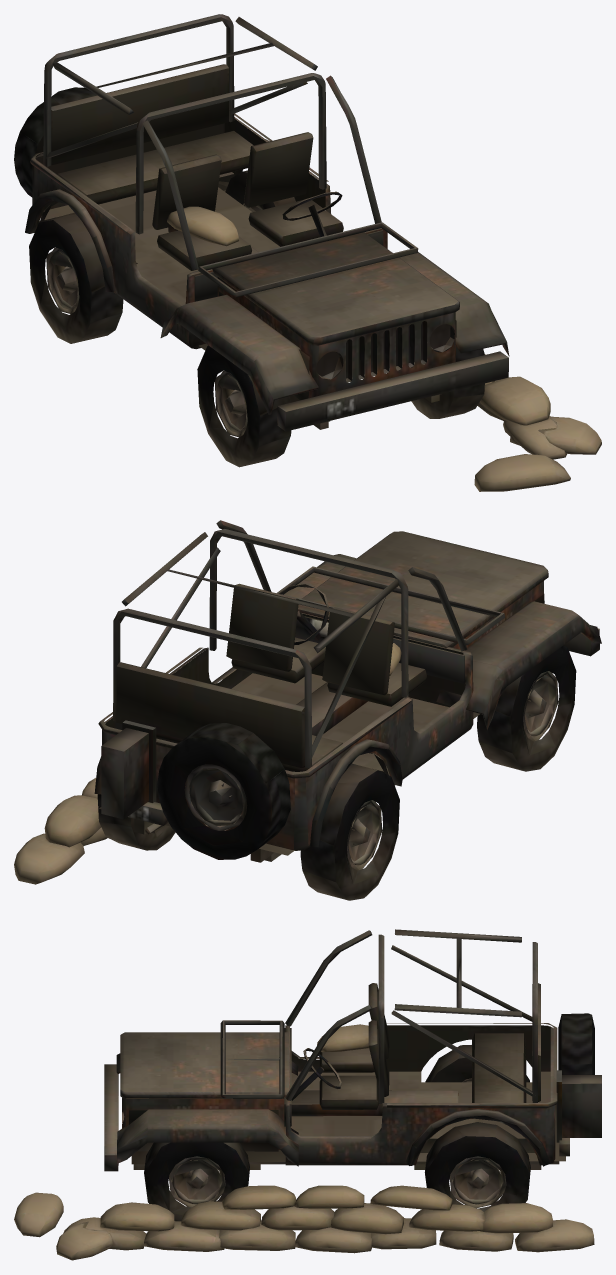
The model's file is nuketown_jeep-low.glb.
3 views of the same model, one above another, from view 1: azimuth 30°, elevation 25°; view 2: azimuth 150°, elevation 25°; view 3: azimuth 270°, elevation 25° (orthographic). The views are drawn at different scales.
Visible parts, largest first — view 1: jeep_A_low, jeep_B_low; view 2: jeep_A_low, jeep_B_low; view 3: jeep_A_low, jeep_B_low.
Part boxes in pixels (left/top/right/bottom): jeep_A_low: left=14, top=14, right=509, bottom=467; jeep_B_low: left=39, top=64, right=601, bottom=491; jeep_A_low: left=94, top=520, right=601, bottom=900; jeep_B_low: left=14, top=583, right=479, bottom=884; jeep_A_low: left=104, top=929, right=601, bottom=1221; jeep_B_low: left=14, top=983, right=594, bottom=1260.
Bounding box in the file's own units: 2.21 × 1.81 × 4.4.
Materials: 2 (2 with a texture image).
